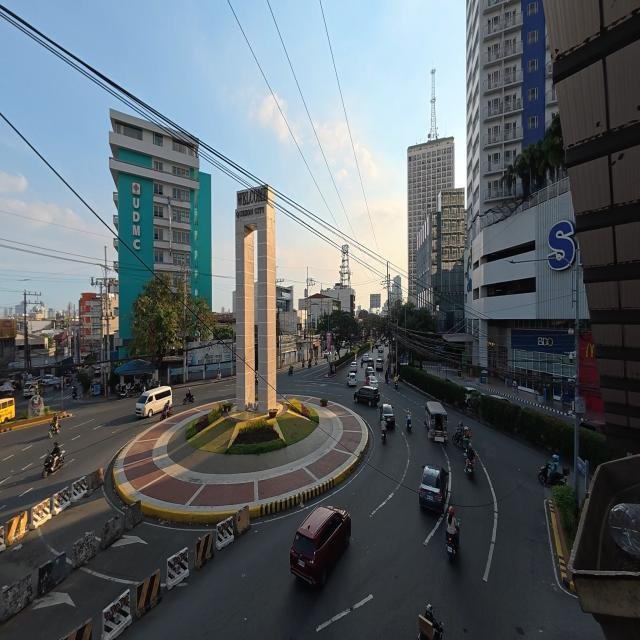Jeepneys: (425, 402, 447, 442)
car: (290, 506, 351, 586), (419, 465, 448, 511), (354, 386, 379, 406), (580, 420, 605, 434), (380, 404, 395, 427), (465, 387, 480, 405), (490, 394, 511, 403), (348, 373, 357, 386), (369, 376, 378, 388), (376, 358, 383, 371), (366, 366, 374, 376), (361, 353, 369, 363), (350, 362, 357, 372), (325, 351, 330, 358), (378, 346, 383, 353), (385, 342, 388, 347)
motorcycle: (418, 605, 444, 639), (538, 461, 569, 486), (42, 450, 64, 477), (446, 532, 459, 561), (160, 403, 173, 420), (452, 426, 463, 445), (465, 457, 474, 477), (49, 421, 59, 438), (118, 385, 129, 398), (183, 393, 194, 405), (148, 380, 159, 389), (406, 417, 411, 431), (382, 426, 386, 443), (72, 388, 77, 400), (289, 365, 293, 375), (395, 379, 398, 388), (308, 360, 311, 368), (315, 358, 317, 365), (361, 361, 363, 367)
vans: (135, 387, 172, 417), (22, 382, 38, 398)
